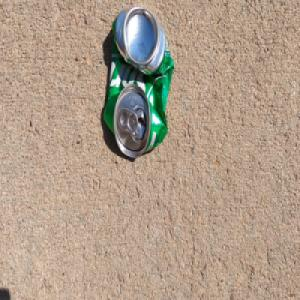SodaCan: (103, 5, 175, 161)
